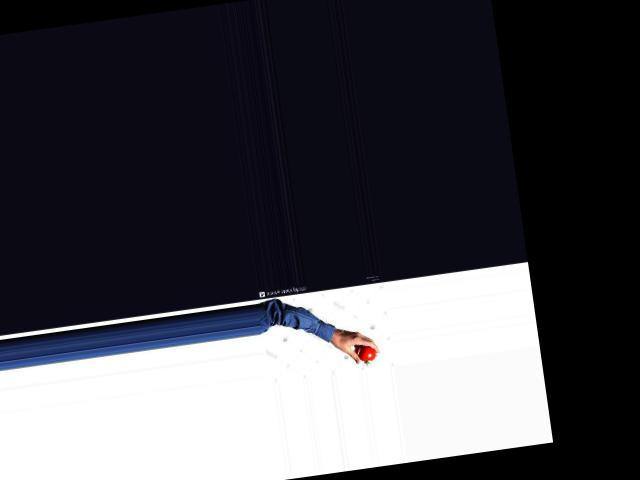tomato: (358, 345, 377, 361)
